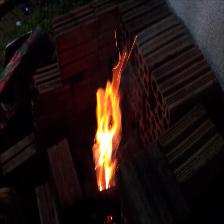fire: (75, 40, 157, 199)
